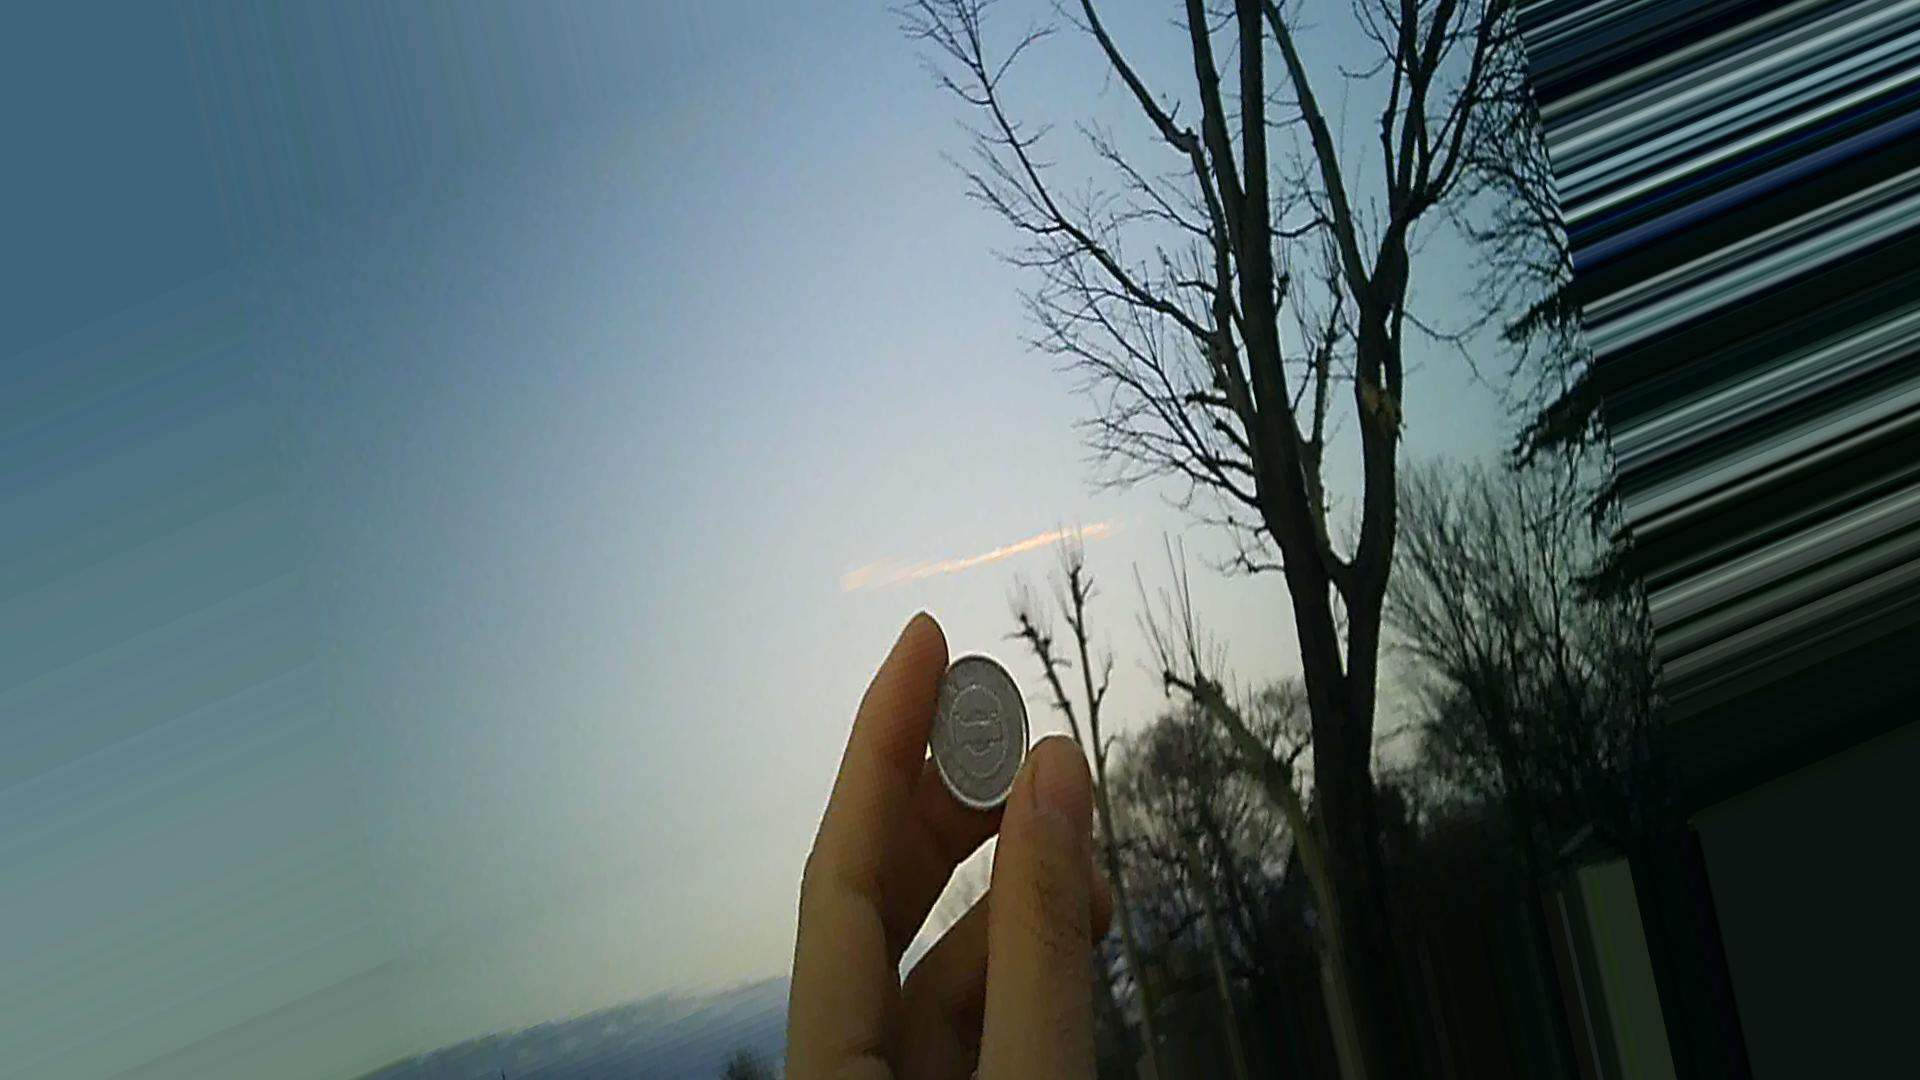1 Yen: (909, 647, 1042, 811)
